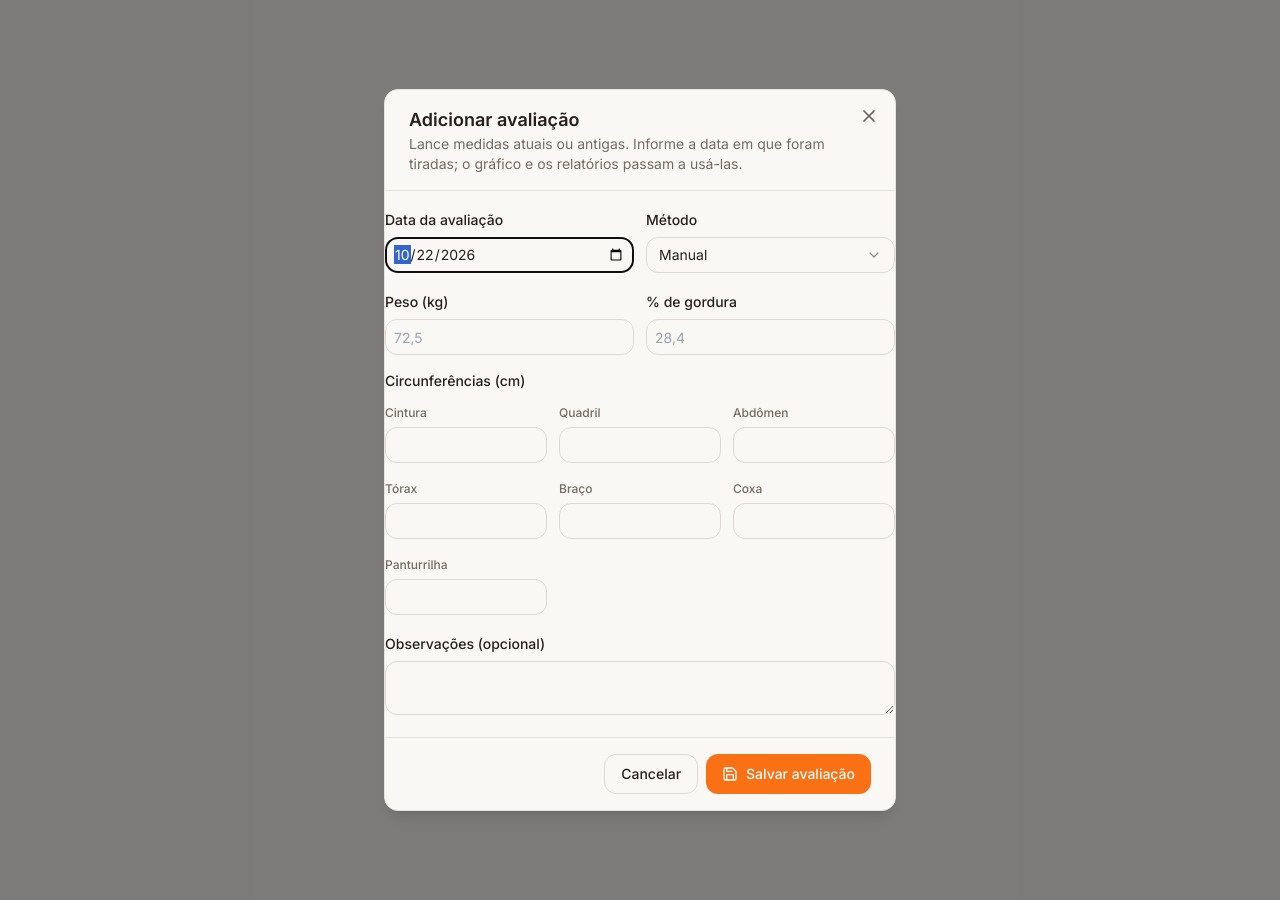
it: AssessmentDialog — medidas antigas › data futura é recusada
Type "2999-01-01" into the date field labelled "Data da avaliação" at (510, 255), box x1=385 y1=237 x2=634 y2=273
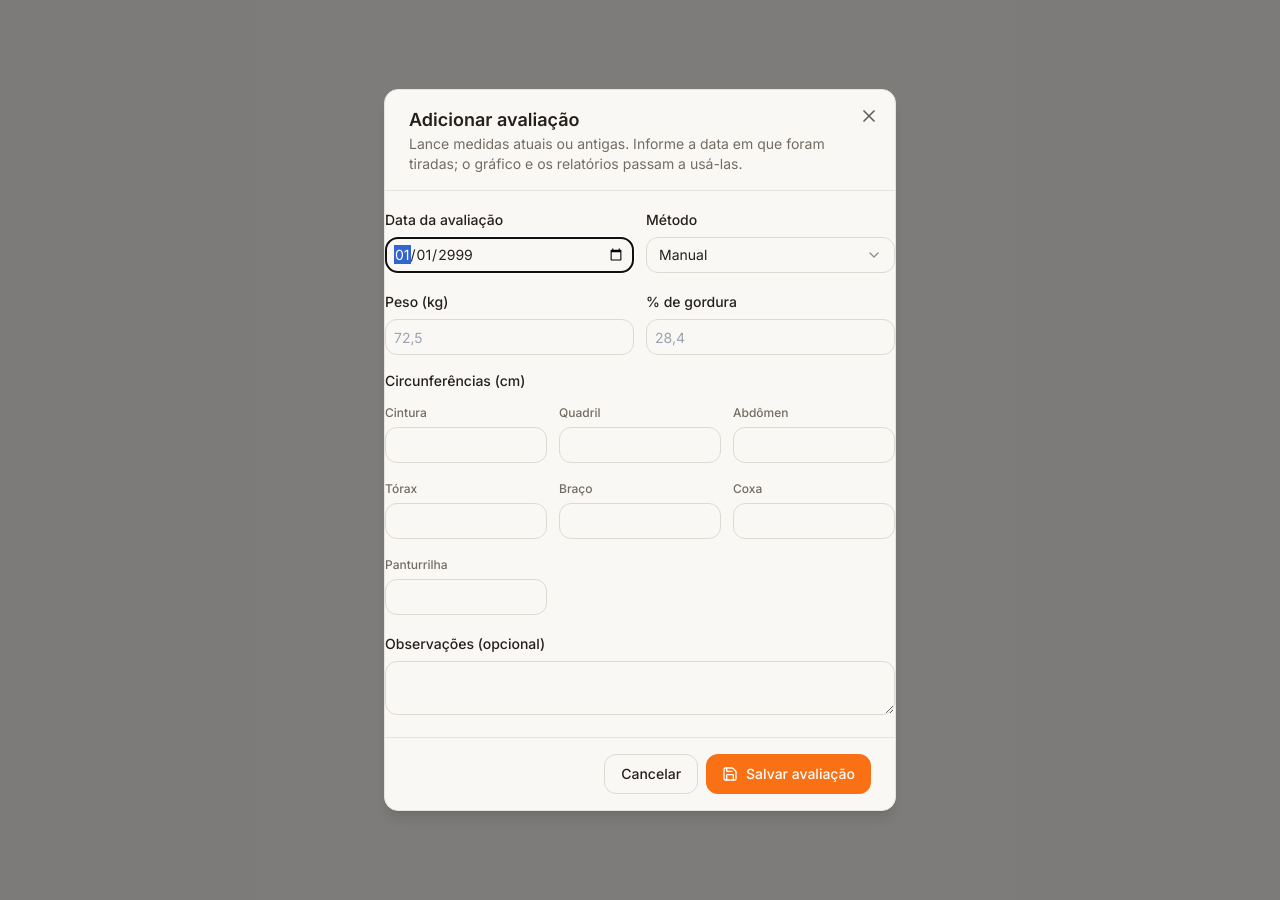
Type "70" into the field labelled "Peso (kg)" at (510, 337), box x1=385 y1=319 x2=634 y2=355
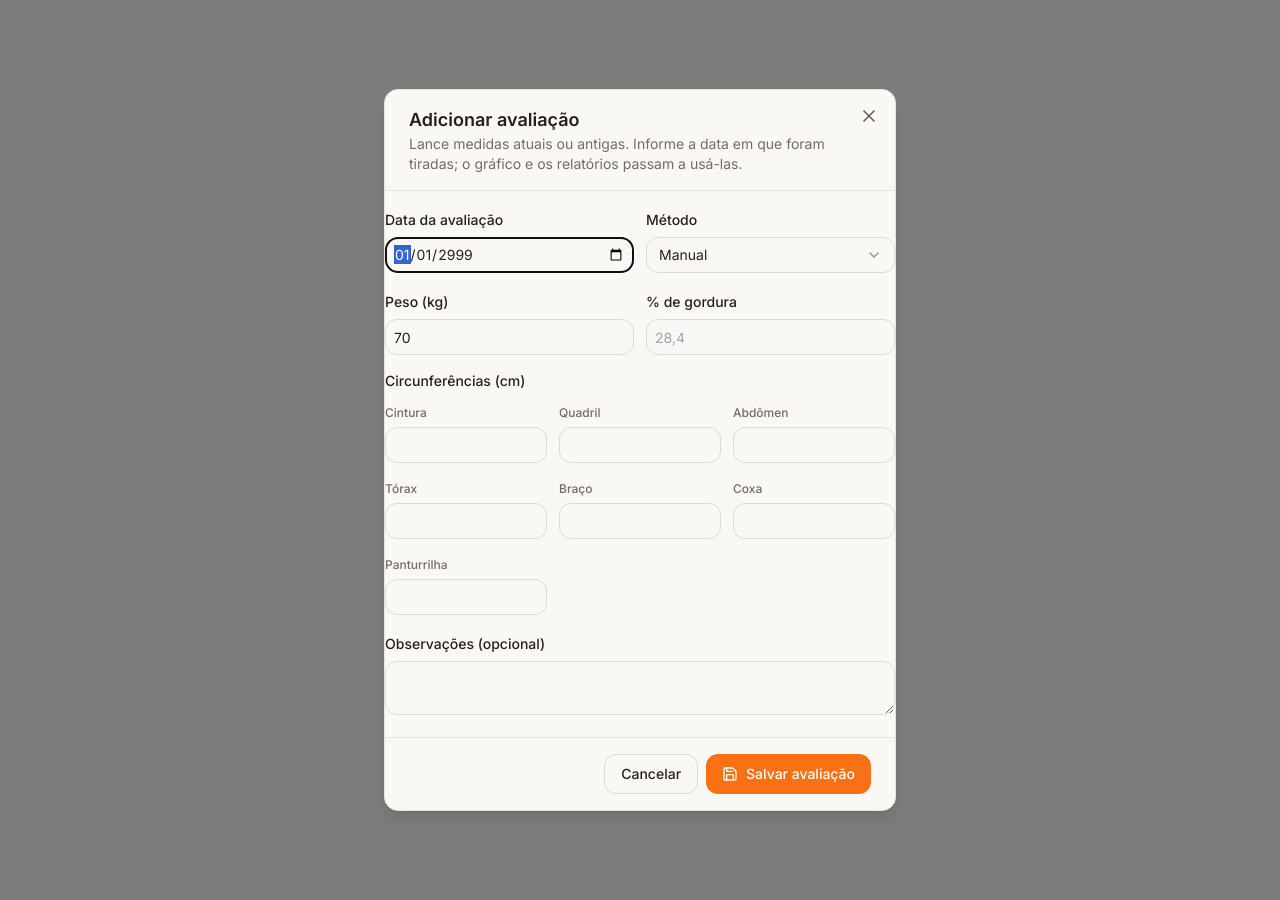
Click the button "Salvar avaliação" at (789, 774), box x1=706 y1=754 x2=871 y2=794
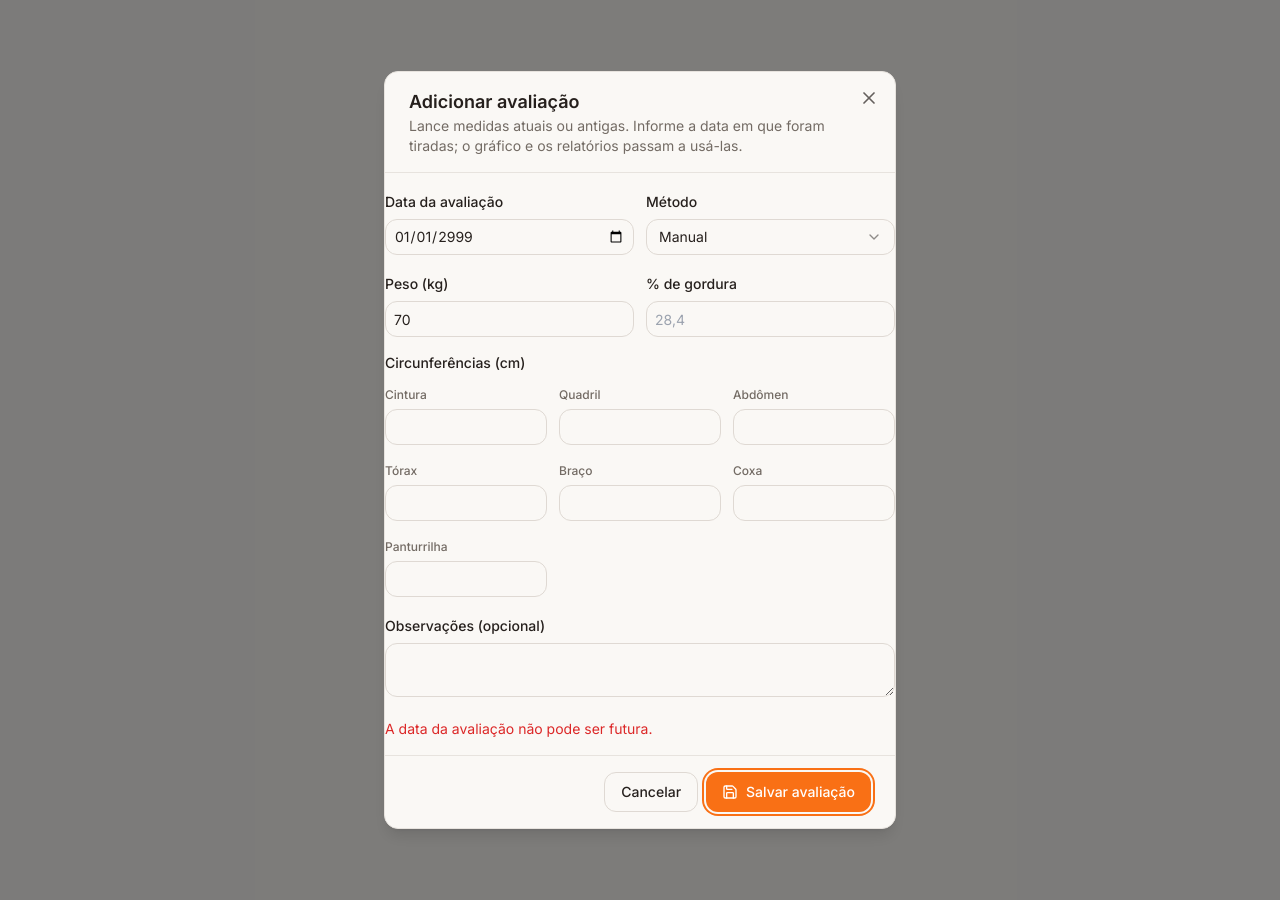
Now the message shows "futura", box x1=385 y1=720 x2=652 y2=737
